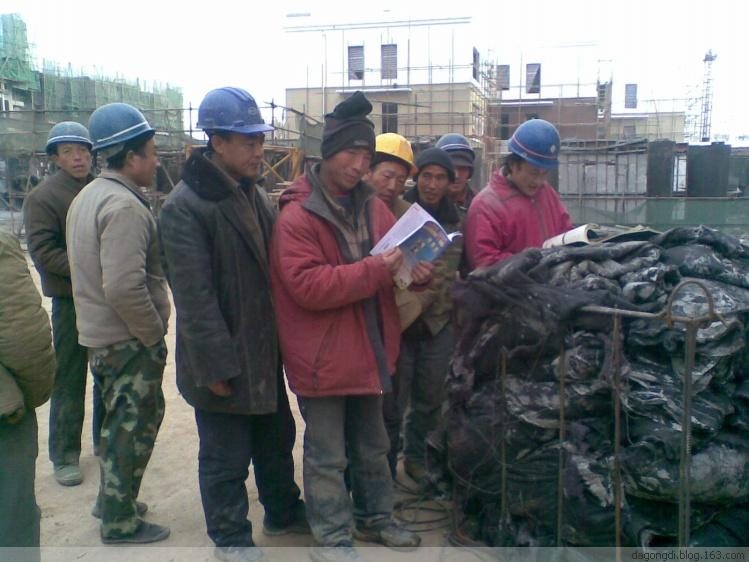helmet: (198, 83, 275, 143), (90, 101, 153, 157), (510, 122, 565, 168), (373, 130, 415, 172), (47, 119, 92, 154), (436, 133, 479, 155)
